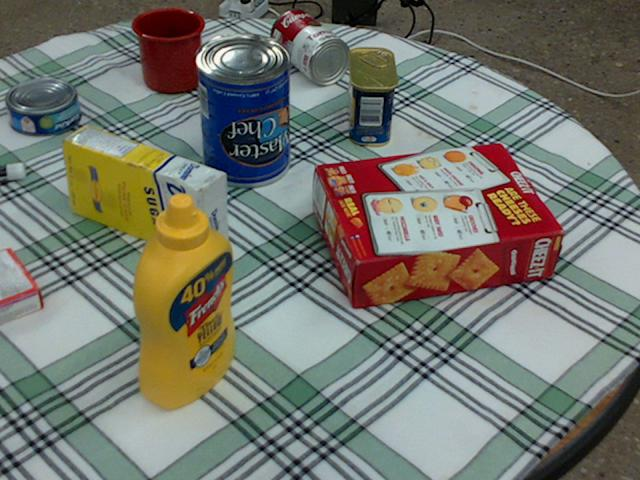cracker_box: (315, 143, 563, 309)
gelatin_box: (0, 248, 43, 323)
large_marker: (0, 162, 25, 180)
master_chef_can: (194, 33, 288, 186)
mug: (133, 7, 206, 91)
mustard_bottle: (131, 193, 234, 406)
potted_meat_can: (345, 47, 396, 145)
sugar_box: (61, 125, 226, 263)
tomato_soup_can: (270, 8, 349, 83)
tuna_fish_can: (6, 77, 80, 134)
